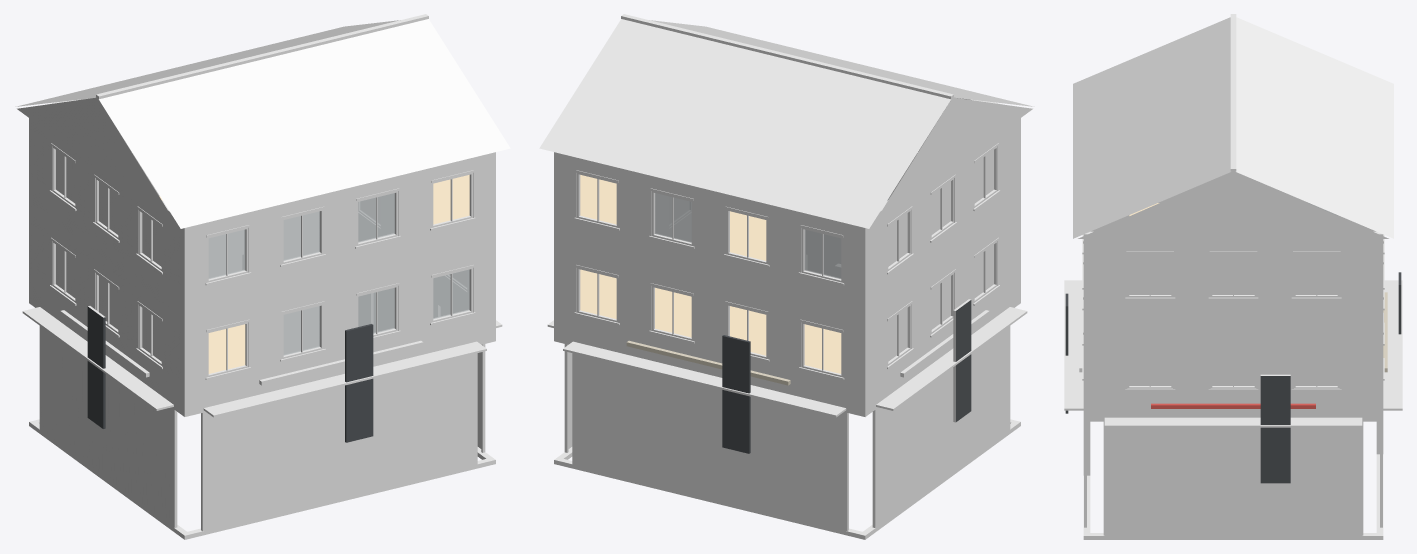
Rendered from Shptraditional_lowrise_0000007.glb.
The picture shows the model from 3 angles, left to right: view 1: azimuth 30°, elevation 25°; view 2: azimuth 150°, elevation 25°; view 3: azimuth 270°, elevation 25°; orthographic projection. The views are drawn at different scales.
Parts seen in each view (by area): view 1: Shptraditional_lowrise_0000007; view 2: Shptraditional_lowrise_0000007; view 3: Shptraditional_lowrise_0000007.
Part boxes in pixels (box(x1,y1,x2,y2)): Shptraditional_lowrise_0000007: box(15, 14, 510, 539); Shptraditional_lowrise_0000007: box(539, 14, 1034, 539); Shptraditional_lowrise_0000007: box(1064, 14, 1402, 539).
Size of the model in its own units: 12.83 by 13.82 by 11.29.
